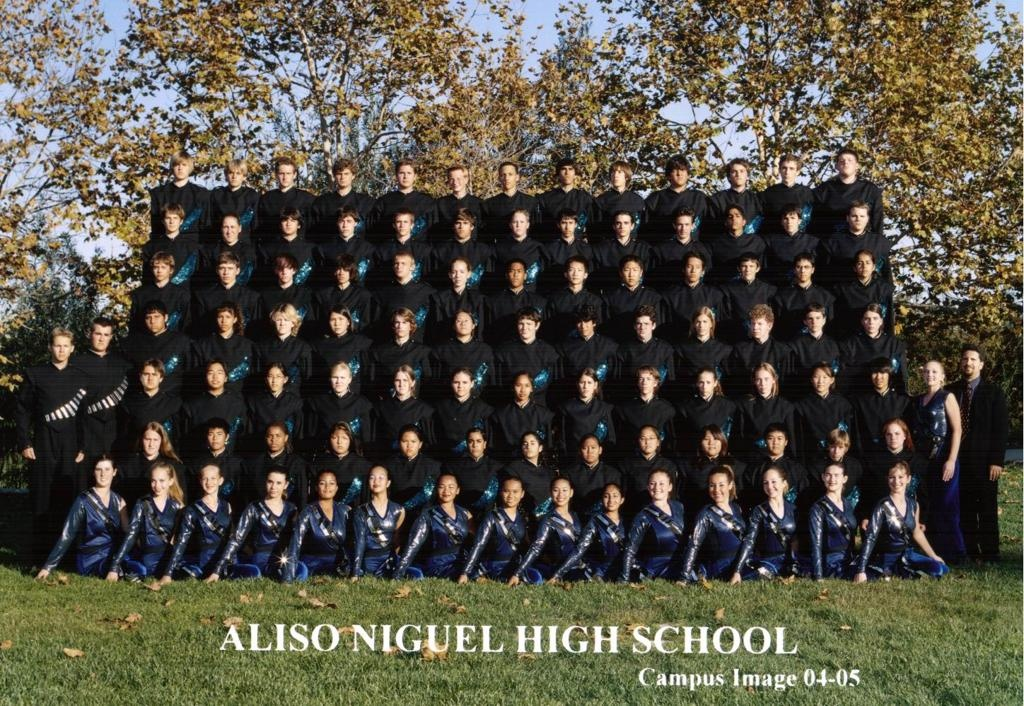human_face: (501, 478, 521, 505), (762, 470, 782, 496), (649, 474, 669, 500), (399, 430, 419, 456), (708, 473, 726, 500), (93, 323, 111, 350), (766, 430, 786, 454), (366, 468, 386, 492), (696, 372, 714, 398), (961, 350, 979, 376), (550, 480, 568, 506), (437, 476, 455, 502), (142, 429, 160, 455), (150, 469, 168, 495), (94, 460, 112, 486), (748, 315, 768, 337), (620, 263, 640, 285), (328, 310, 348, 332), (602, 486, 620, 510), (638, 429, 656, 453), (702, 430, 720, 454), (634, 314, 652, 338), (674, 214, 692, 238), (393, 370, 411, 394), (330, 367, 348, 391), (331, 430, 349, 454), (318, 474, 336, 498), (266, 472, 284, 496), (200, 467, 218, 491), (144, 309, 162, 333), (140, 364, 158, 388), (685, 256, 701, 282), (508, 260, 524, 286), (499, 164, 515, 190), (266, 424, 282, 450), (221, 216, 237, 242), (824, 465, 842, 488), (850, 207, 868, 230), (580, 437, 598, 460), (452, 374, 470, 397), (206, 363, 224, 386), (516, 317, 536, 337), (754, 371, 772, 393), (884, 426, 902, 448), (828, 439, 846, 461), (854, 254, 872, 276), (612, 215, 630, 237), (780, 211, 798, 233), (836, 154, 854, 176), (521, 435, 539, 457), (449, 262, 467, 284), (206, 427, 224, 449), (812, 369, 828, 393), (888, 468, 904, 492), (726, 208, 742, 232), (514, 375, 530, 399), (448, 168, 464, 192), (276, 163, 292, 187), (52, 336, 68, 360), (468, 430, 482, 456), (636, 372, 654, 392), (692, 314, 710, 334), (728, 165, 746, 185), (574, 318, 594, 336), (392, 316, 410, 336), (336, 215, 354, 235), (794, 258, 810, 280), (567, 261, 583, 283), (510, 212, 526, 234), (455, 312, 471, 334), (578, 375, 594, 396), (266, 368, 282, 389), (863, 312, 879, 332), (780, 160, 796, 180), (670, 162, 686, 182), (392, 256, 408, 276), (276, 314, 292, 334), (276, 263, 292, 283), (218, 262, 234, 282), (173, 158, 189, 178), (164, 210, 180, 230), (153, 259, 169, 279), (395, 213, 409, 235), (398, 164, 412, 186), (453, 216, 469, 235), (560, 215, 574, 236), (871, 368, 887, 386), (806, 312, 822, 330), (610, 168, 626, 186), (740, 260, 756, 278), (335, 168, 353, 184), (280, 215, 296, 233), (217, 312, 233, 330), (226, 168, 242, 186), (924, 364, 938, 384), (559, 166, 573, 182), (335, 266, 349, 282)
